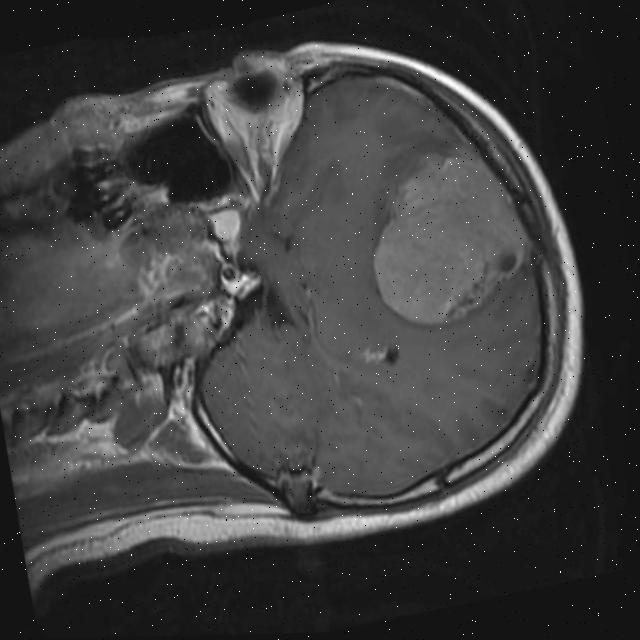Meningioma: (349, 135, 540, 338)
